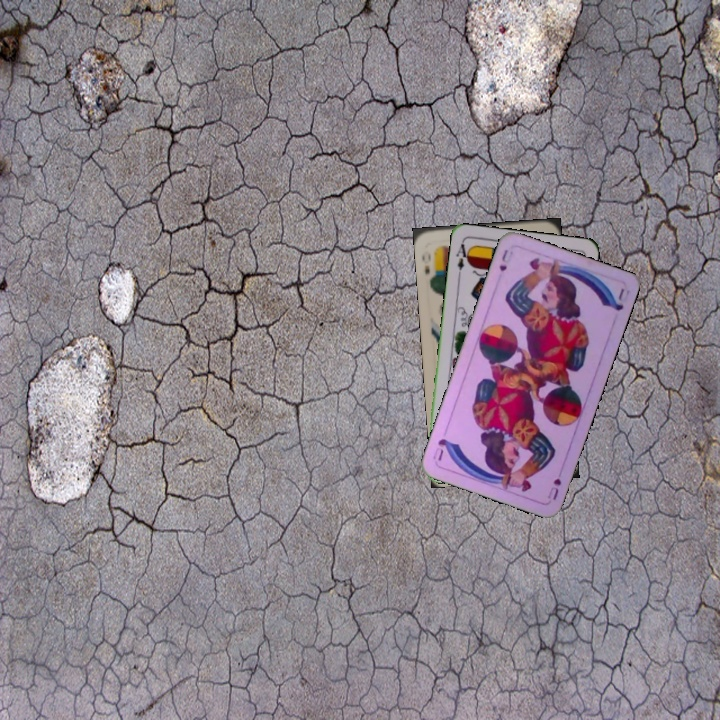EA: (452, 239, 473, 279)
EO: (418, 247, 434, 277)
SU: (543, 474, 564, 502), (495, 245, 510, 274)
